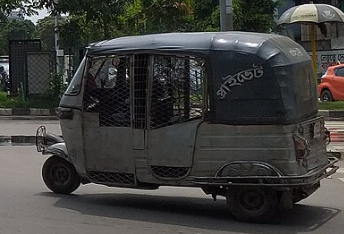cng: (31, 29, 341, 220)
